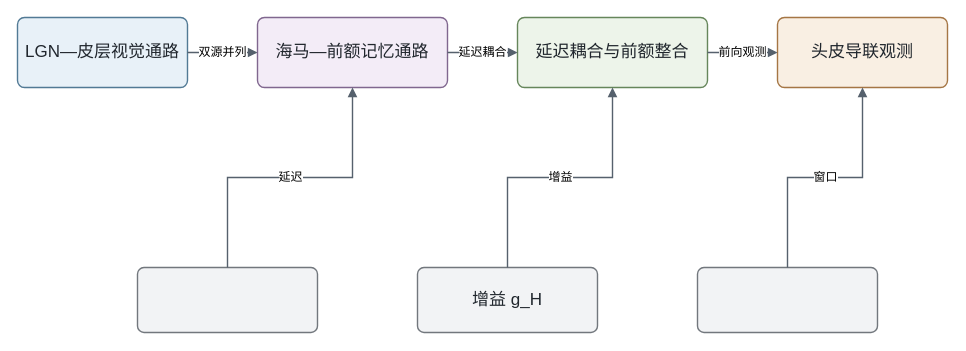
Some shapes in this 966 by 351 pixel diagram are drawn without their labels. The shapes that lost their labels are listed below. From the top down, each one's centre as x and y in pixels, then its label:
At (227,299): "延迟 τ_H".
At (787,299): "窗口终点：应答前 100 ms".
